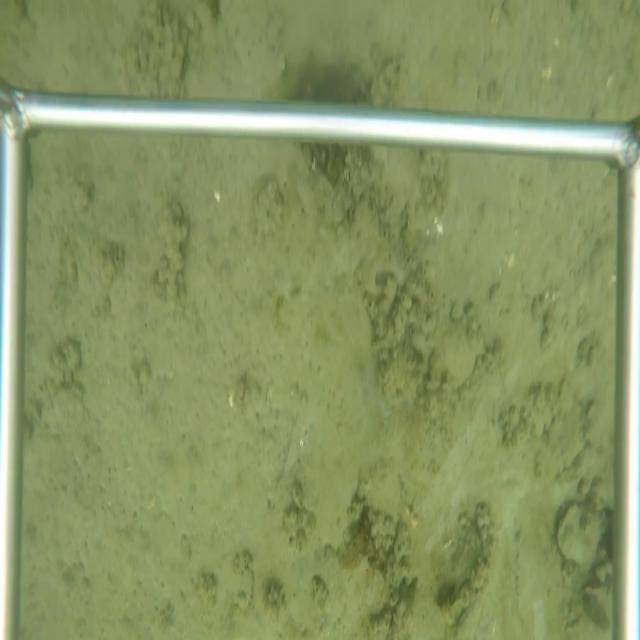Oyster-Closed: (553, 498, 608, 570)
Oyster-Indeterminate: (427, 315, 484, 393)
